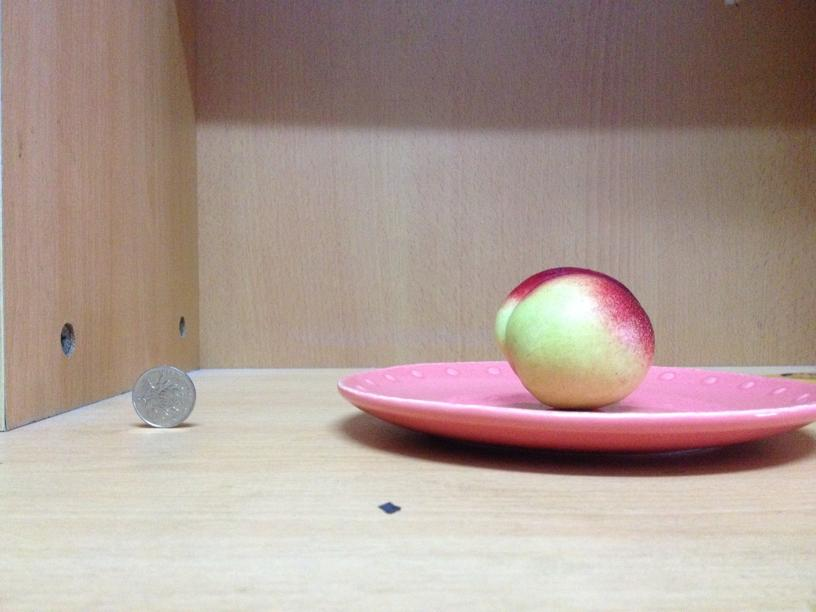coin: (129, 363, 197, 429)
peach: (492, 260, 656, 408)
